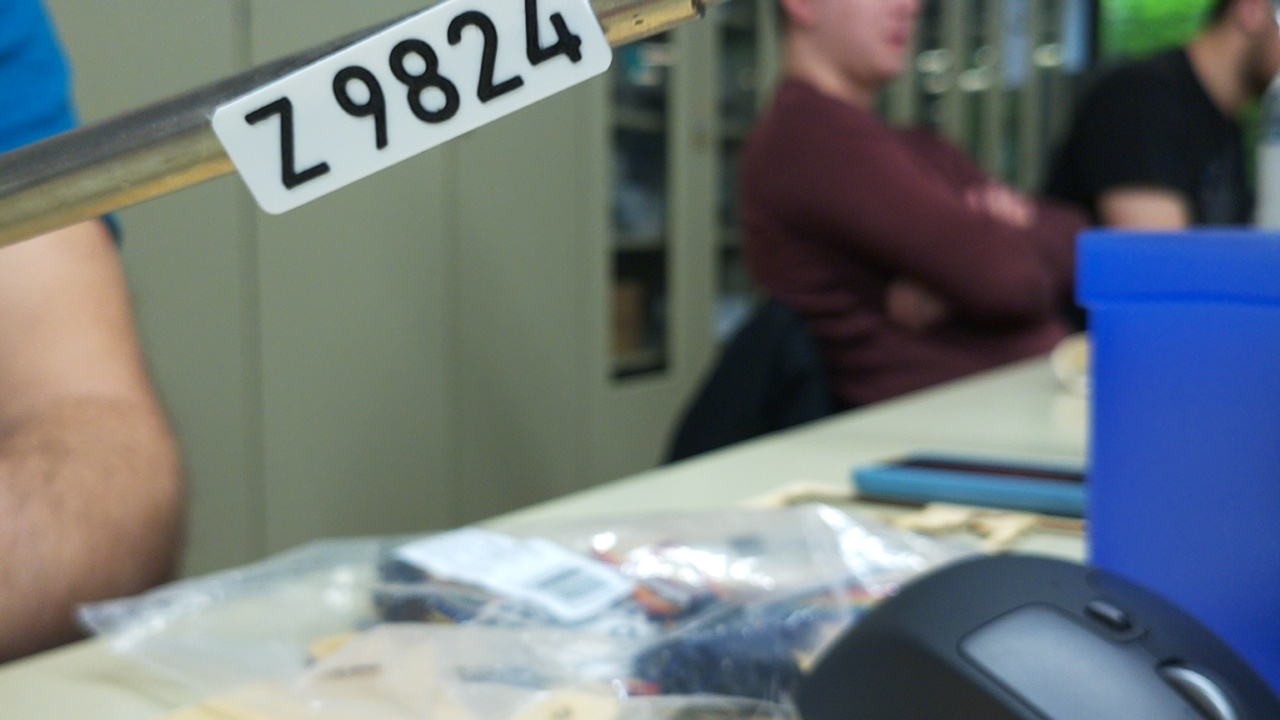license_plate: (208, 0, 615, 221)
